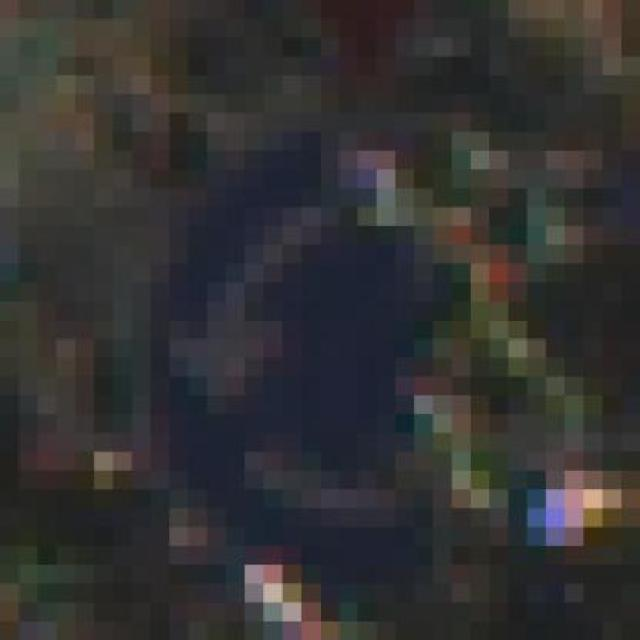Round-About: (94, 132, 603, 566)
